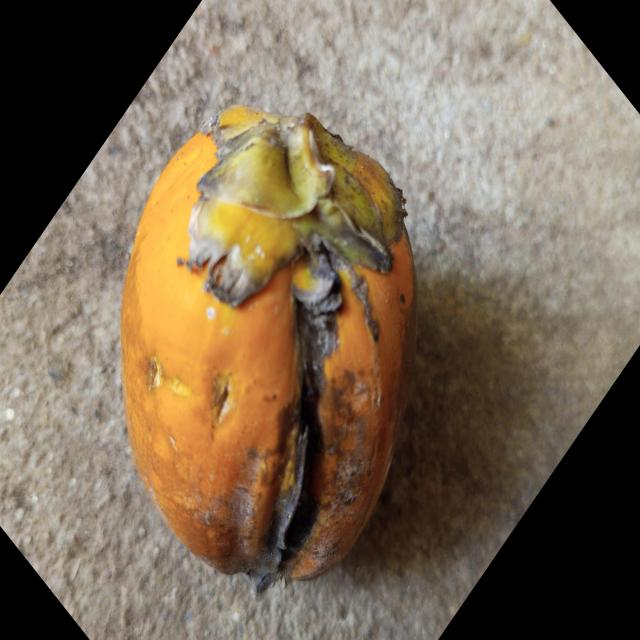damaged: (118, 105, 417, 591)
